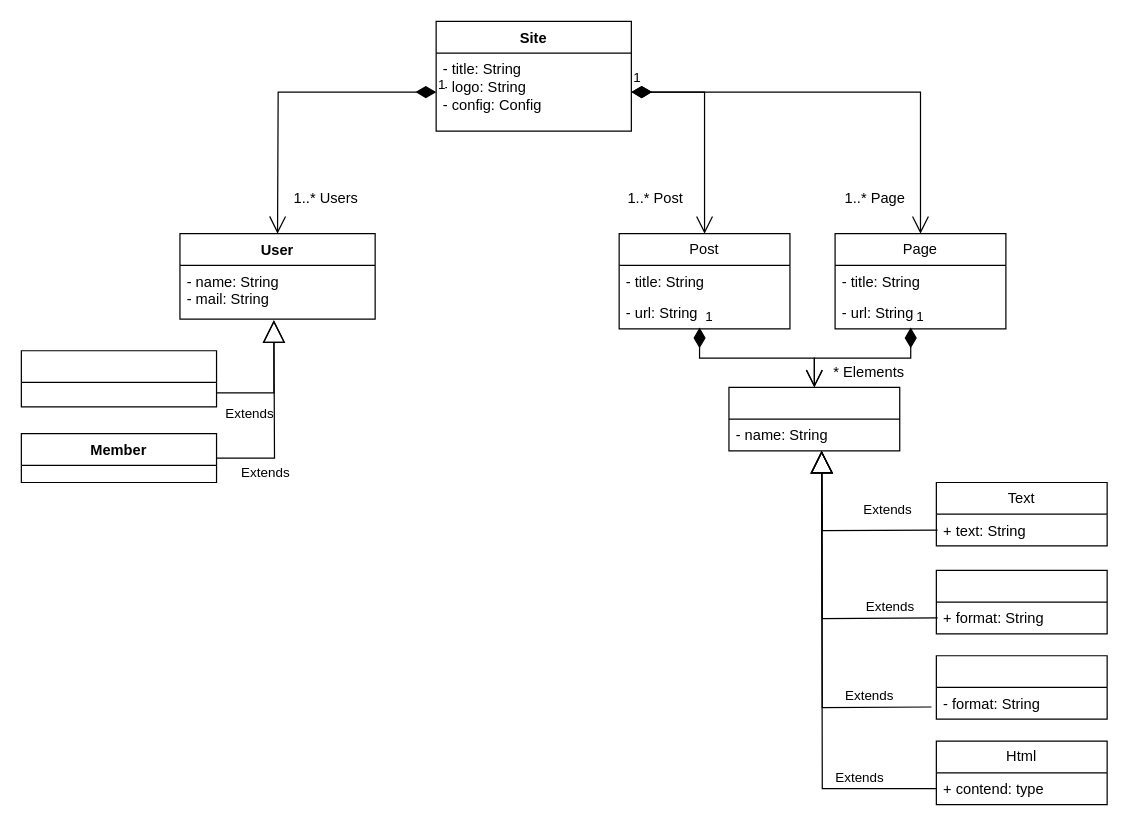
Image size: 1129x832. Some labels were removed from this diagram. Here are the shapes that lost their labels. From the top down, the box of each, then its label:
(20, 350, 217, 407): Author
(728, 386, 900, 451): Element
(935, 569, 1107, 634): Image
(935, 655, 1107, 719): Video
